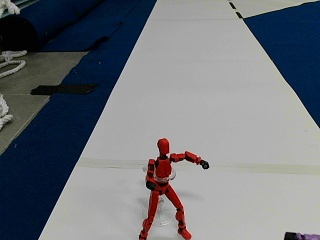pedestrian: (140, 137, 206, 237)
